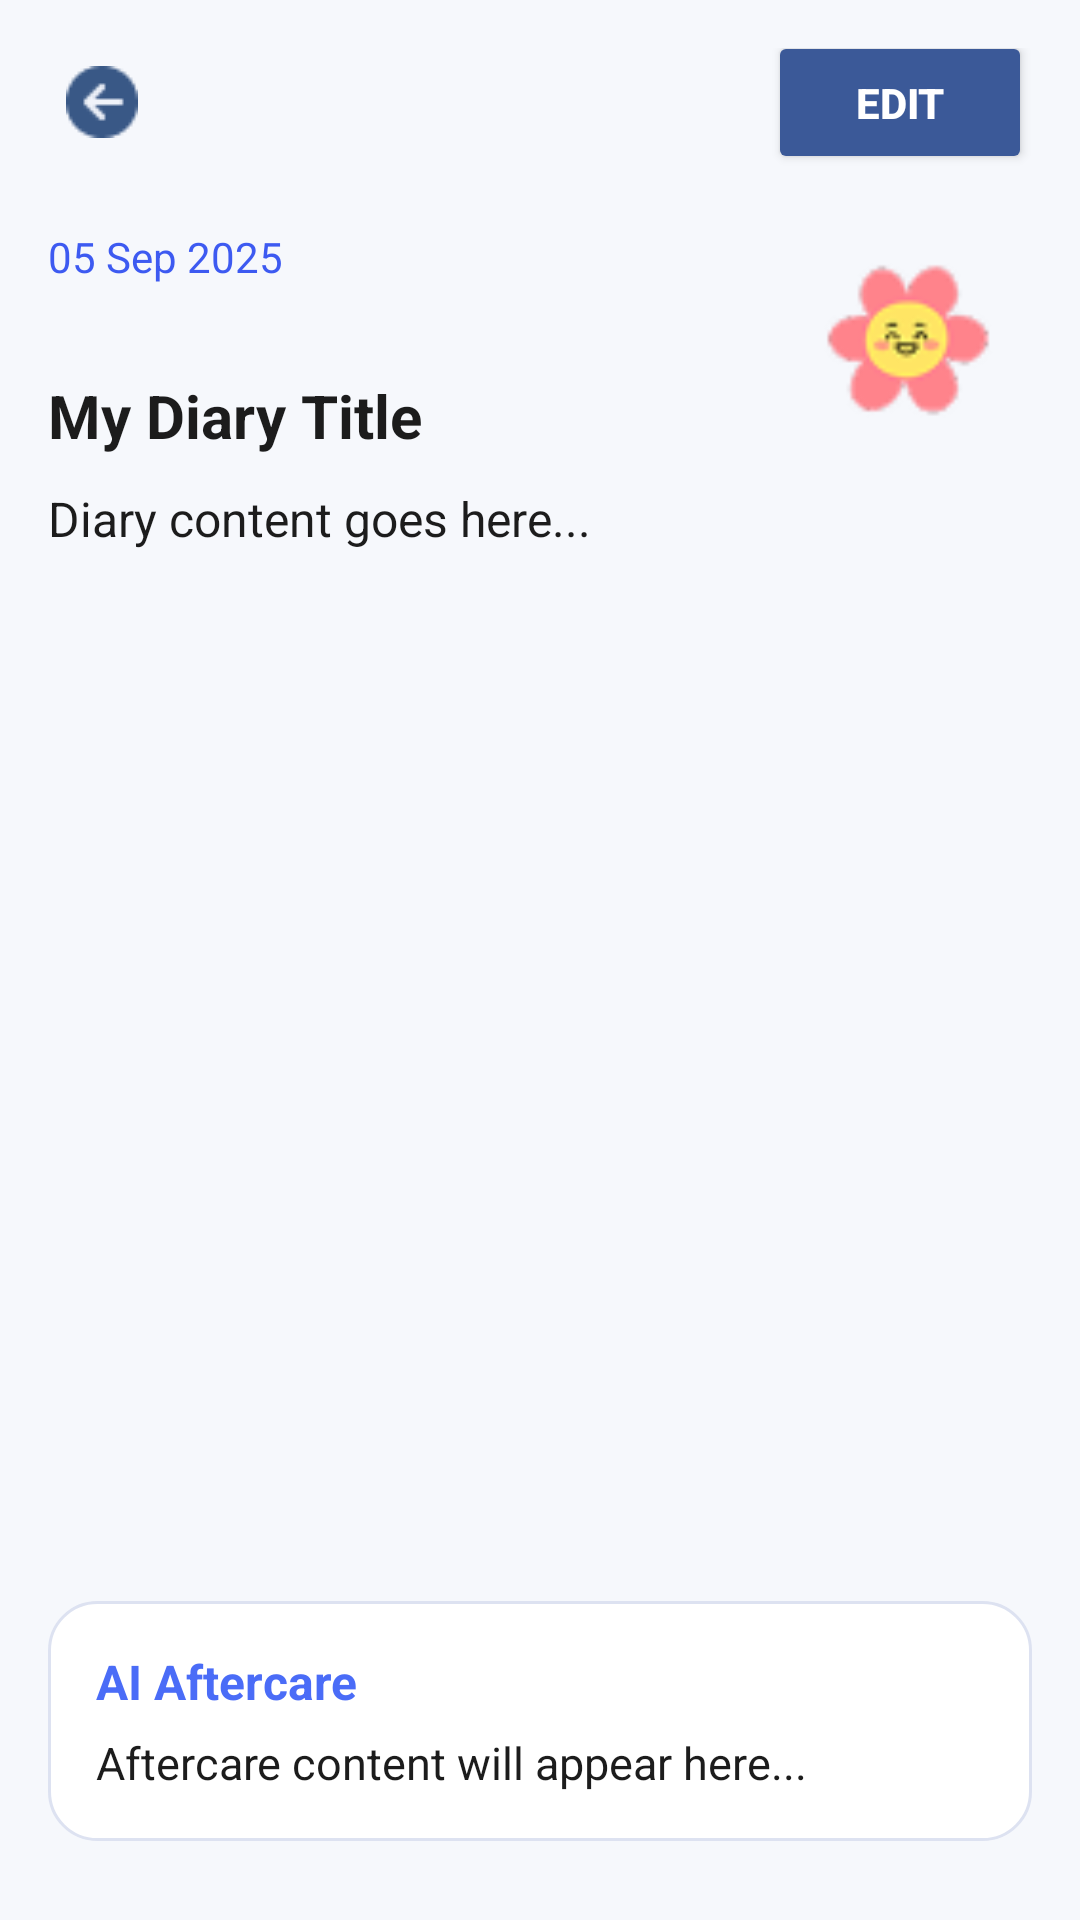

Named icons in this screenshot (1080x1920) and their bounding boxes, {"x1": x1, "y1": y1, "x2": x2, "y2": y2}:
back: {"x1": 66, "y1": 66, "x2": 138, "y2": 138}
moodhappy: {"x1": 827, "y1": 265, "x2": 989, "y2": 414}
